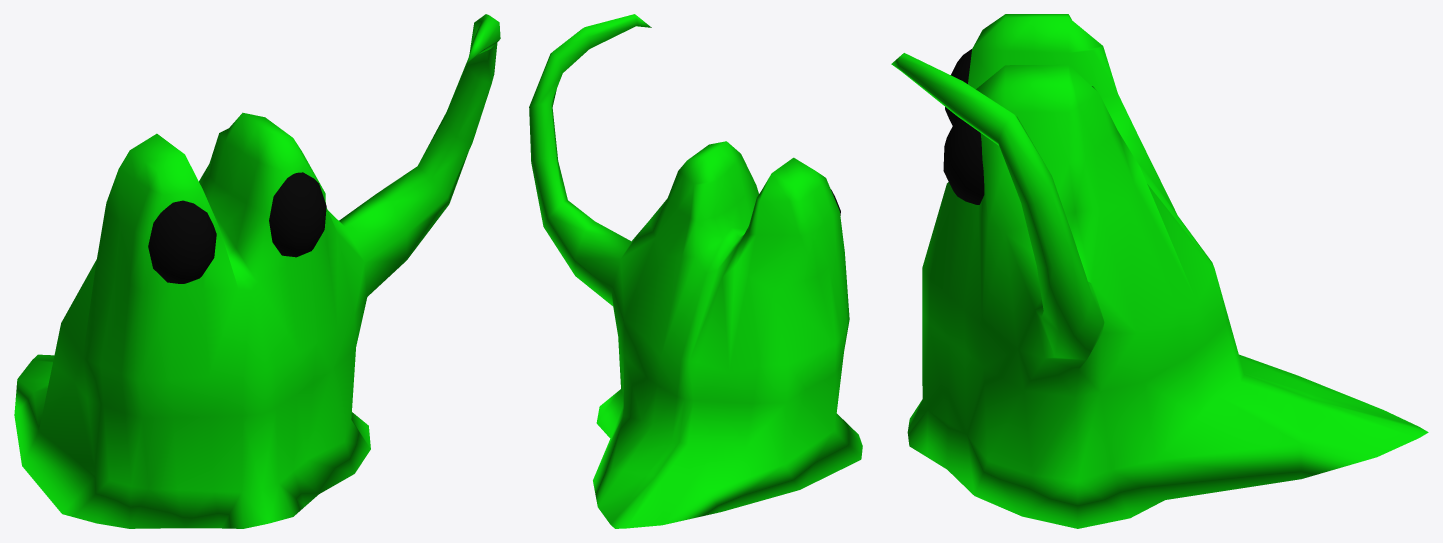
The model's file is ThreeStackie.fbx.
3 views of the same model, side by side, from view 1: azimuth 30°, elevation 25°; view 2: azimuth 150°, elevation 25°; view 3: azimuth 270°, elevation 25° (orthographic). The views are drawn at different scales.
Parts seen in each view (by area): view 1: ThreeStackie1_Body; view 2: ThreeStackie1_Body; view 3: ThreeStackie1_Body.
Boxes of the visible parts, <box> form: ThreeStackie1_Body: <box>14,14,500,528</box>; ThreeStackie1_Body: <box>529,14,862,528</box>; ThreeStackie1_Body: <box>891,14,1428,528</box>.
Size of the model in its own units: 212 by 205 by 207.
